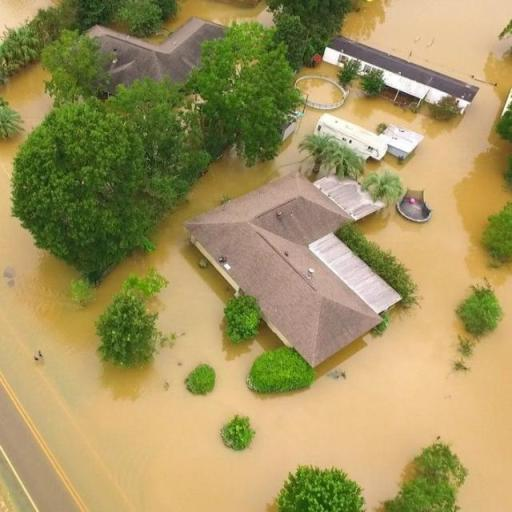flood: (0, 0, 512, 512), (150, 0, 271, 42), (297, 78, 343, 104), (297, 61, 339, 79)
house: (185, 179, 394, 363), (323, 33, 479, 120), (64, 18, 226, 86)
